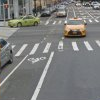crosswalk: (13, 40, 100, 56), (46, 18, 100, 26)
